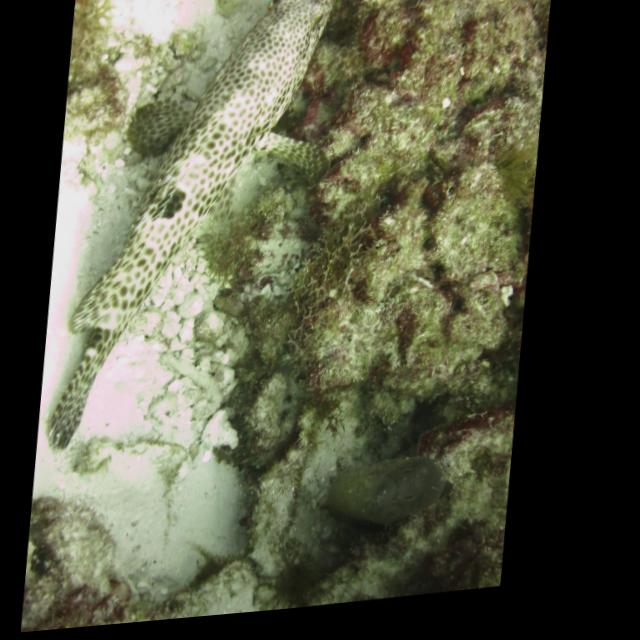Groupers: (35, 0, 350, 455)
